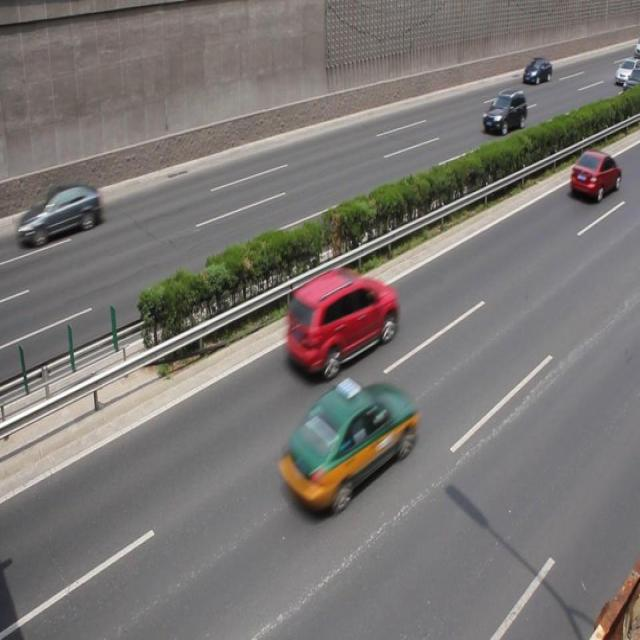car: (272, 378, 415, 516), (282, 267, 398, 378), (28, 182, 102, 246), (569, 148, 619, 204), (481, 87, 526, 136), (521, 56, 552, 86)
